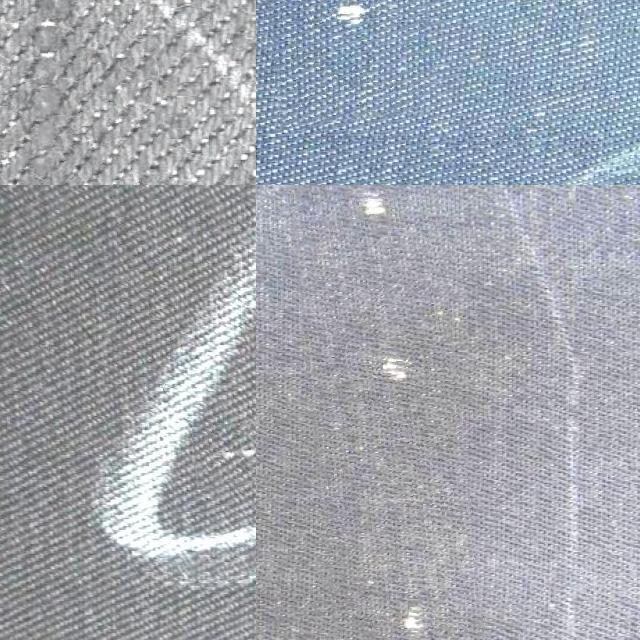stains: (302, 185, 483, 640), (267, 0, 433, 123), (190, 412, 256, 484)
